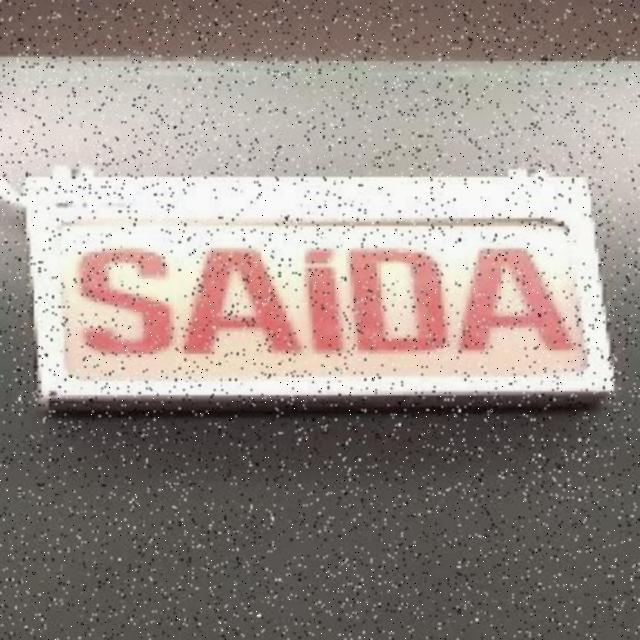emergency_exit: (21, 168, 615, 415)
